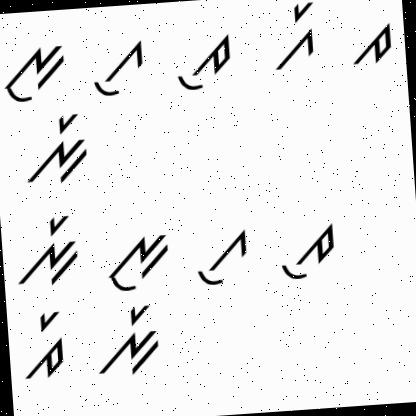gar: (265, 0, 328, 75)
gaw: (84, 36, 152, 106), (193, 224, 252, 291)
ngar: (12, 211, 84, 294), (92, 302, 164, 382), (18, 112, 93, 187)
ngaw: (98, 220, 175, 294), (0, 38, 70, 106)
ta: (349, 14, 396, 70)
tar: (20, 306, 76, 382)
taw: (168, 23, 238, 98), (276, 214, 341, 288)
